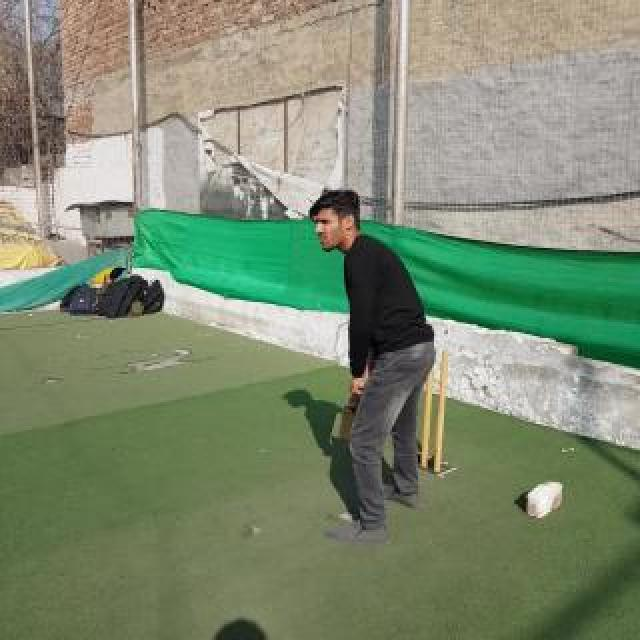bat: (339, 381, 365, 441)
